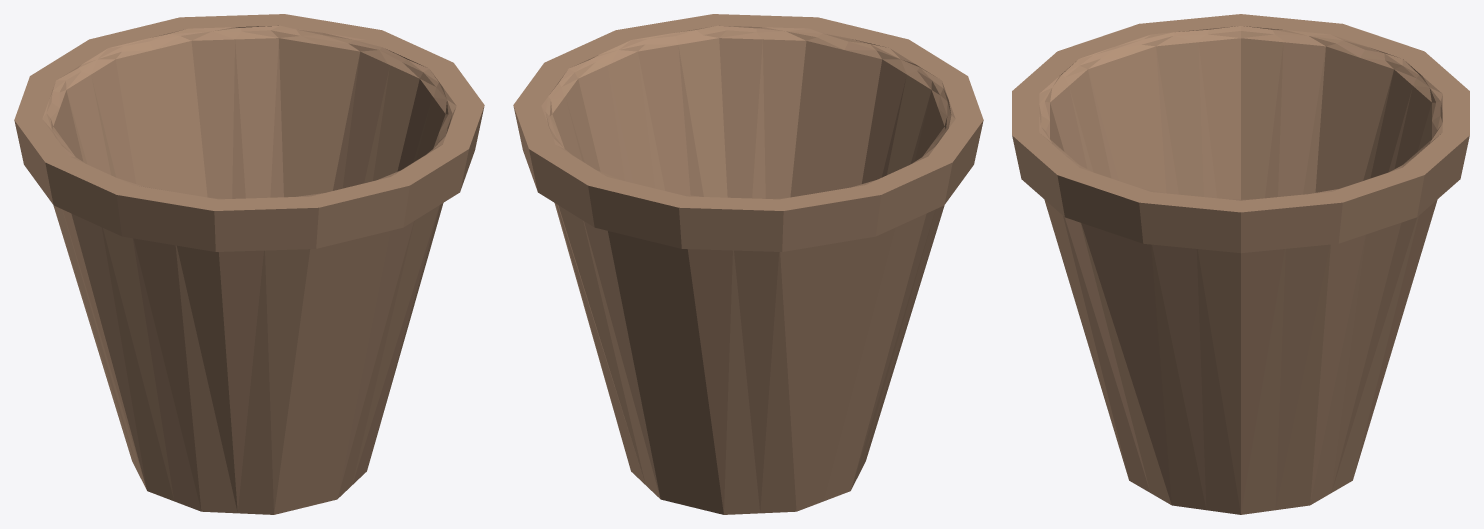
The picture shows the model from 3 angles, left to right: view 1: azimuth 30°, elevation 25°; view 2: azimuth 150°, elevation 25°; view 3: azimuth 270°, elevation 25°; orthographic projection.
Visible parts, largest first — view 1: mesh; view 2: mesh; view 3: mesh.
Boxes of the visible parts, left/top/right/bottom form: mesh: left=14, top=14, right=484, bottom=514; mesh: left=513, top=14, right=983, bottom=514; mesh: left=1012, top=14, right=1469, bottom=514.
Size of the model in its own units: 0.1184 by 0.0979 by 0.1154.
